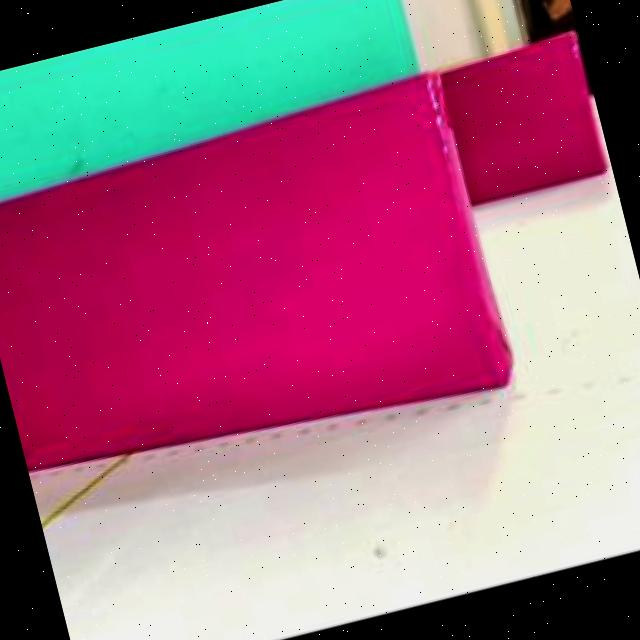xparking: (0, 73, 504, 470), (438, 40, 606, 208)
